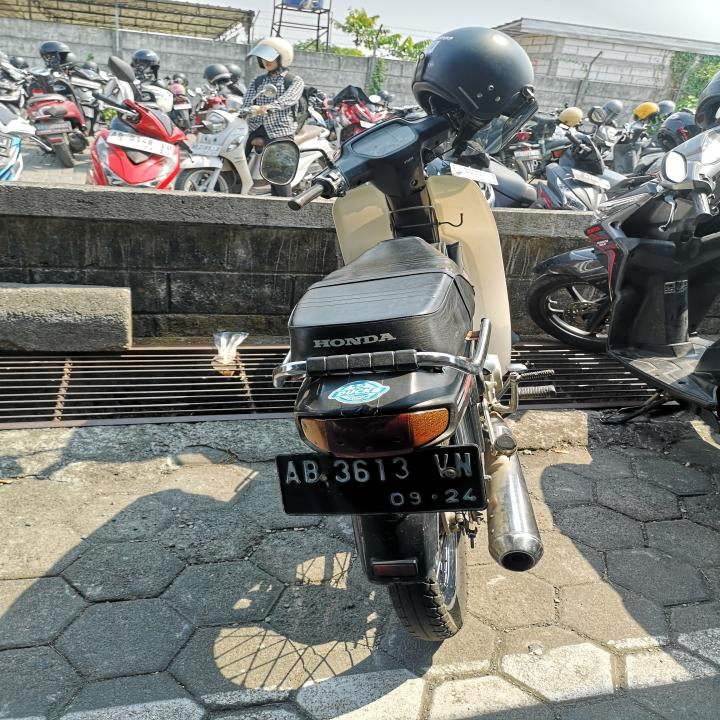plate: (272, 447, 489, 515), (106, 129, 176, 158)
